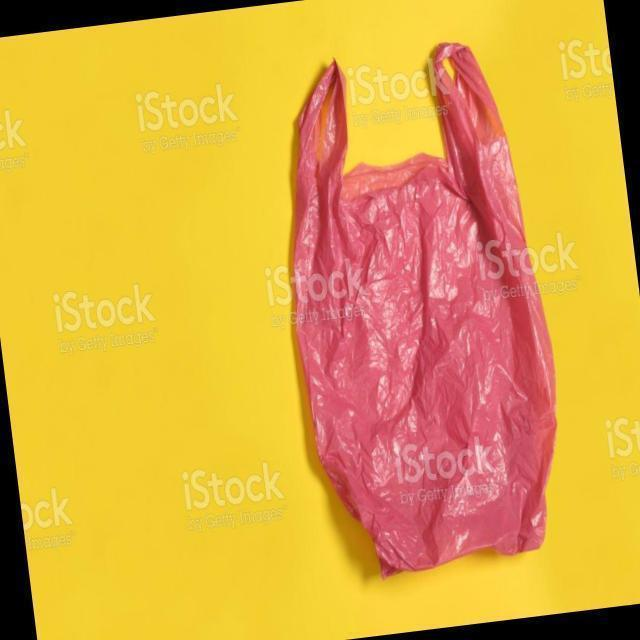Plastic_Bag: (265, 29, 570, 584)
